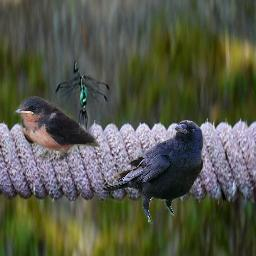Crow: (101, 120, 204, 224)
Swallow: (14, 96, 100, 162)
